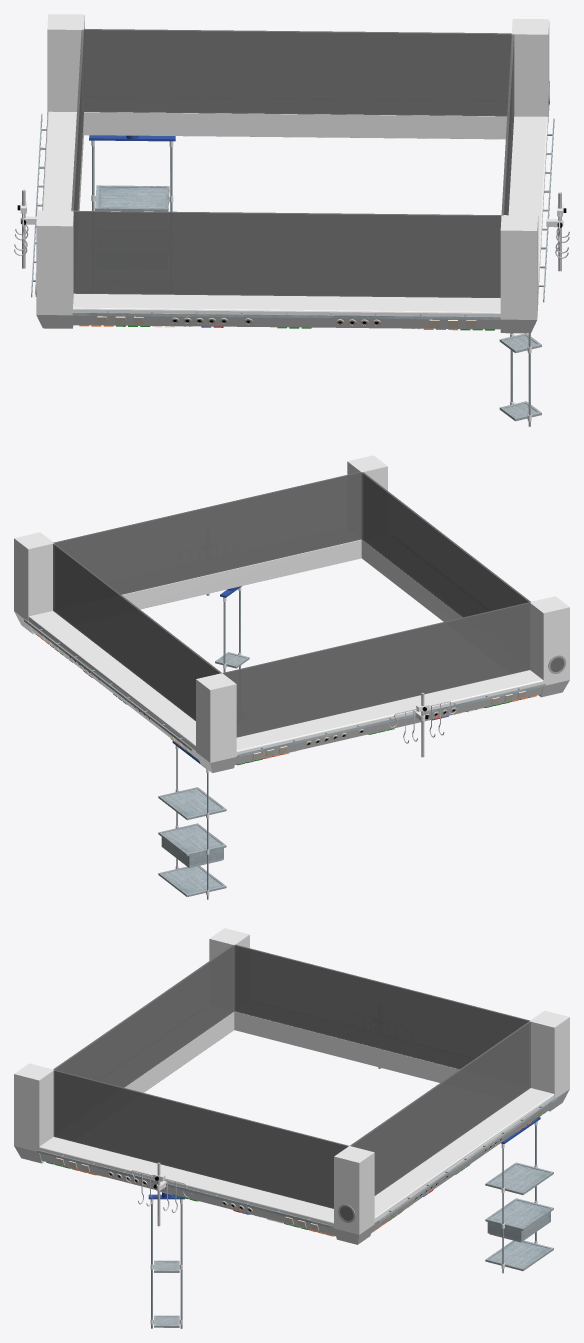
Rendered from Medienbrücke.fbx.
3 renders of one model, top to bottom at view 1: azimuth 30°, elevation 25°; view 2: azimuth 150°, elevation 25°; view 3: azimuth 270°, elevation 25°, orthographic. The views are drawn at different scales.
Visible parts, largest first — view 1: Glas Rauchglas, Farbe, weiß, Metall Stahl, gebürstet, Melamin-Spanplatte, Stahl, rostfrei, Farbe, blau; view 2: Glas Rauchglas, Farbe, weiß, Metall Stahl, gebürstet, Melamin-Spanplatte, Stahl, rostfrei; view 3: Glas Rauchglas, Farbe, weiß, Metall Stahl, gebürstet, Melamin-Spanplatte, Stahl, rostfrei.
Part boxes in pixels (x1,y1,x2,y2): Glas Rauchglas: [71, 29, 514, 297]; Farbe, weiß: [20, 14, 563, 421]; Metall Stahl, gebürstet: [31, 113, 554, 426]; Melamin-Spanplatte: [97, 136, 547, 329]; Stahl, rostfrei: [14, 189, 569, 271]; Farbe, blau: [89, 135, 211, 327]; Glas Rauchglas: [53, 471, 530, 737]; Farbe, weiß: [14, 455, 569, 895]; Metall Stahl, gebürstet: [24, 591, 545, 899]; Melamin-Spanplatte: [39, 633, 525, 759]; Stahl, rostfrei: [206, 593, 457, 757]; Glas Rauchglas: [53, 944, 530, 1208]; Farbe, weiß: [14, 928, 569, 1324]; Metall Stahl, gebürstet: [36, 1096, 558, 1328]; Melamin-Spanplatte: [56, 1109, 543, 1230]; Stahl, rostfrei: [125, 1067, 381, 1226].
Size of the model in its own units: 564 by 564 by 250.
Materials: 14 (1 with a texture image).
